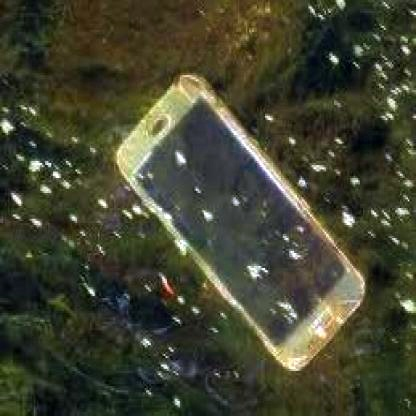cellphone: (117, 73, 363, 373)
